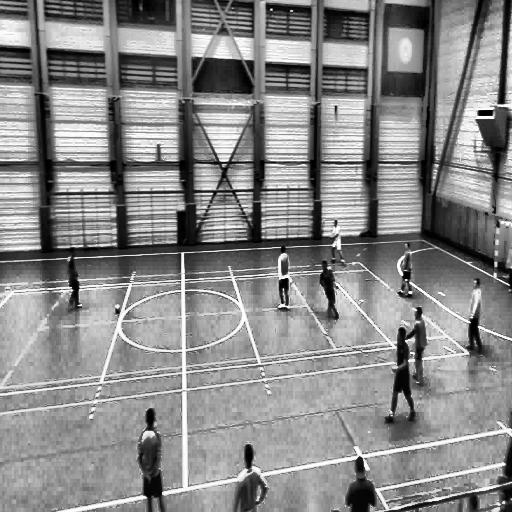ball: (116, 304, 120, 314)
player: (146, 406, 184, 512), (382, 328, 417, 426), (232, 443, 266, 512), (404, 306, 426, 387), (466, 278, 484, 355), (319, 259, 338, 318), (66, 247, 82, 309), (277, 245, 290, 310), (398, 243, 412, 300), (503, 411, 512, 498), (330, 219, 344, 263), (505, 242, 512, 290)
